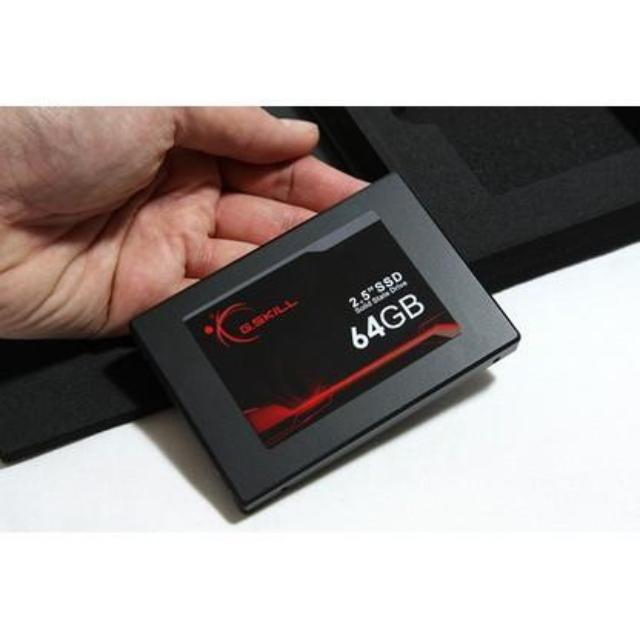DISK: (130, 169, 522, 509)
